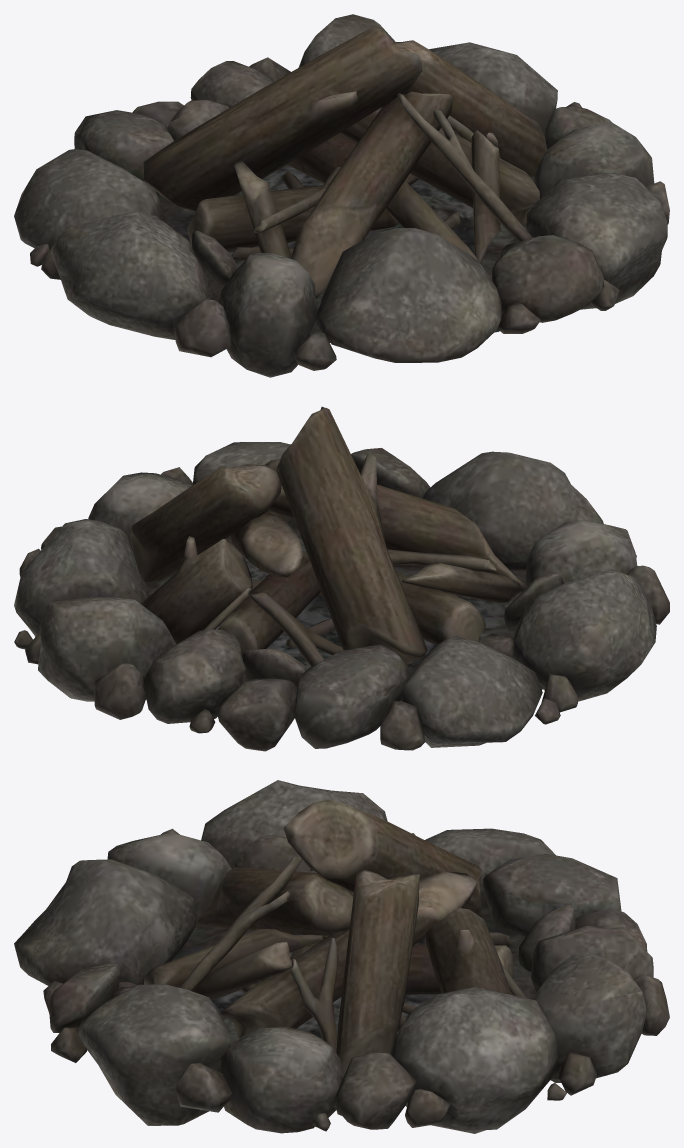
File: campfire.glb
3 renders of one model, top to bottom at view 1: azimuth 30°, elevation 25°; view 2: azimuth 150°, elevation 25°; view 3: azimuth 270°, elevation 25°, orthographic. The views are drawn at different scales.
Parts seen in each view (by area): view 1: campfire.model; view 2: campfire.model; view 3: campfire.model.
Part boxes in pixels (left/top/right/bottom): campfire.model: left=14, top=14, right=669, bottom=377; campfire.model: left=14, top=406, right=669, bottom=751; campfire.model: left=14, top=780, right=669, bottom=1133.
Size of the model in its own units: 0.8238 by 0.3339 by 0.7968.
Materials: 1 (1 with a texture image).
